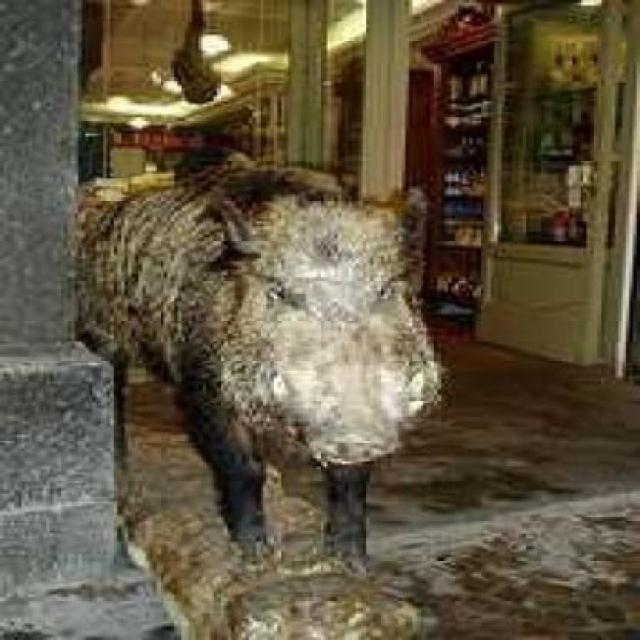pig: (115, 94, 452, 528)
